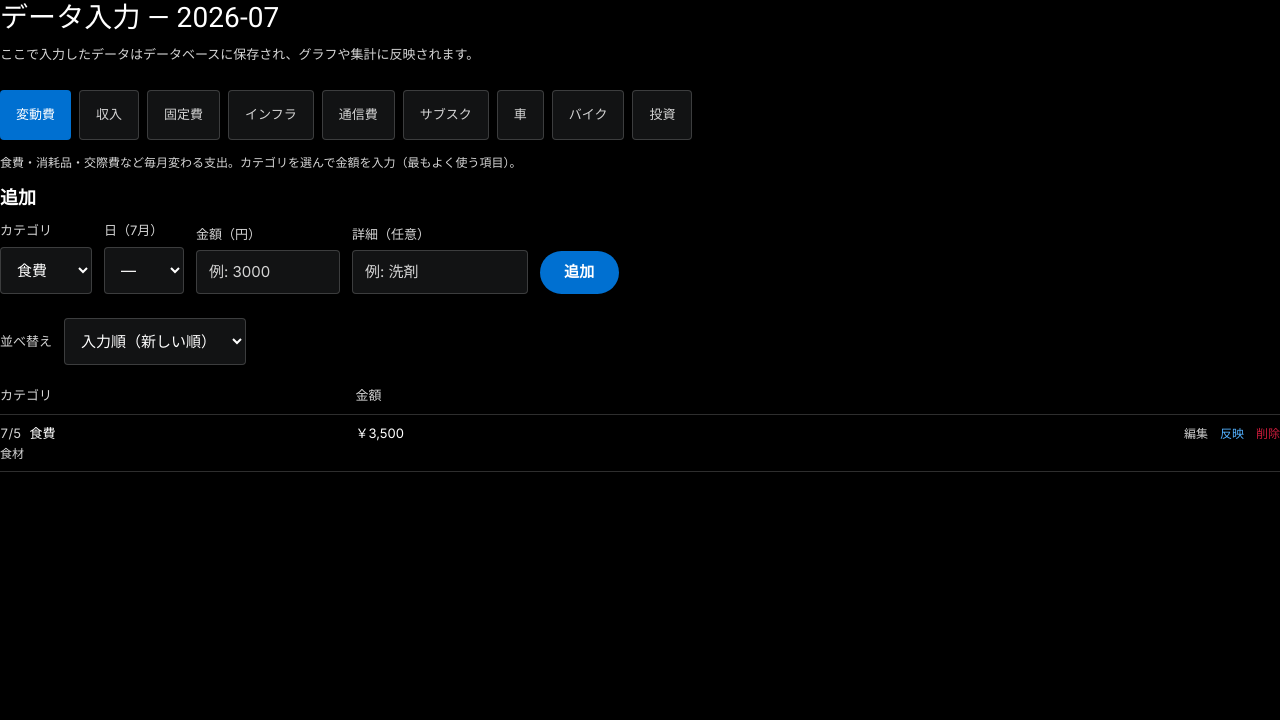
Scenario: EntryTab - 割り勘アプリへの反映 › 反映ボタンでダイアログが開き、反映内容を確認できる
The width and height of the screenshot is (1280, 720).
Click the button "反映" at point(1232, 433), box [1220,424,1244,443]
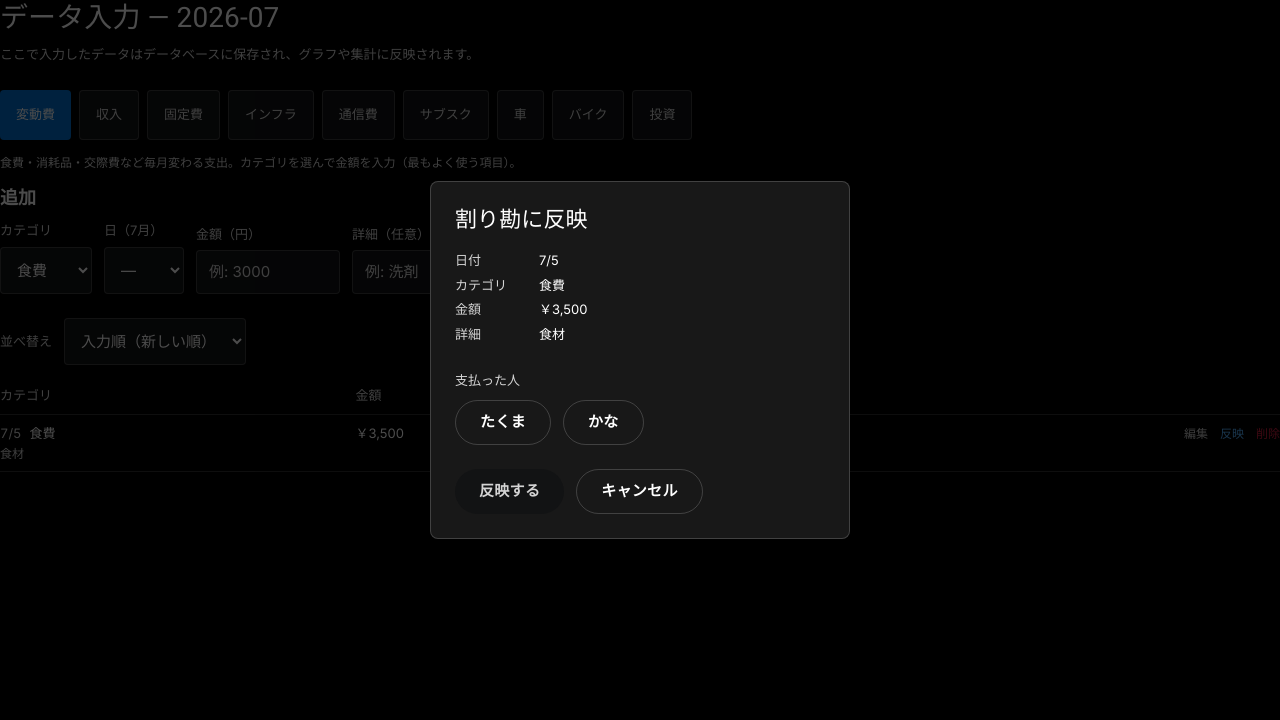
Now the text "7/5" is shown, box [539,250,559,270]
Now the text "食材" is shown, box [539,324,565,345]
Now the radio button labelled "たくま" is shown, box [455,400,551,445]
